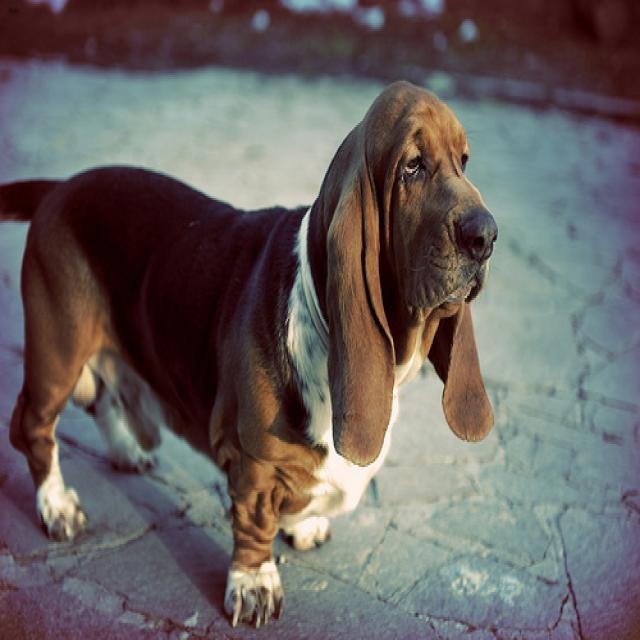dog-basset_hound: (1, 73, 506, 632)
